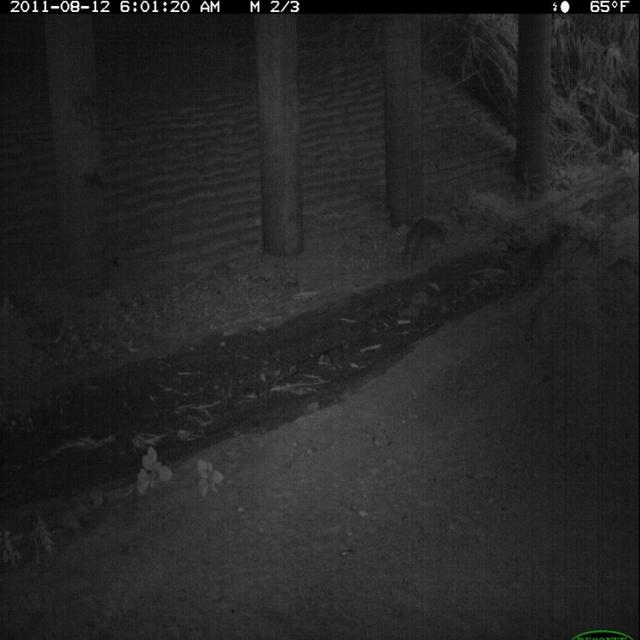raccoon: (398, 213, 452, 274)
